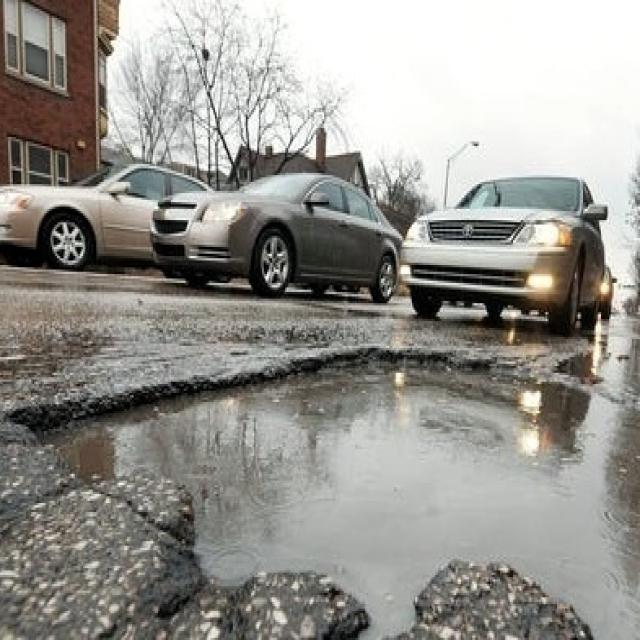road-pothole: (14, 335, 638, 638)
